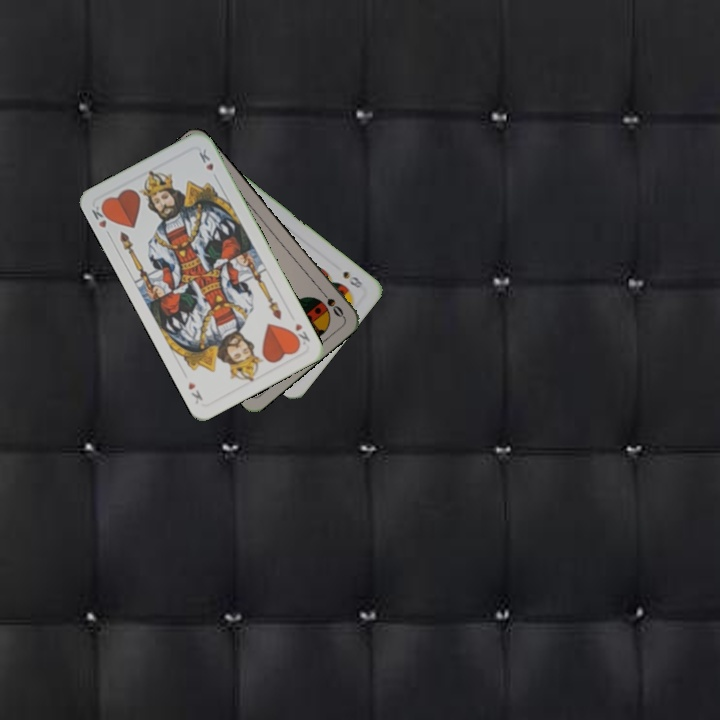HK: (87, 200, 114, 240), (287, 319, 313, 350)
S8: (339, 267, 366, 293)
SO: (316, 286, 346, 320)
